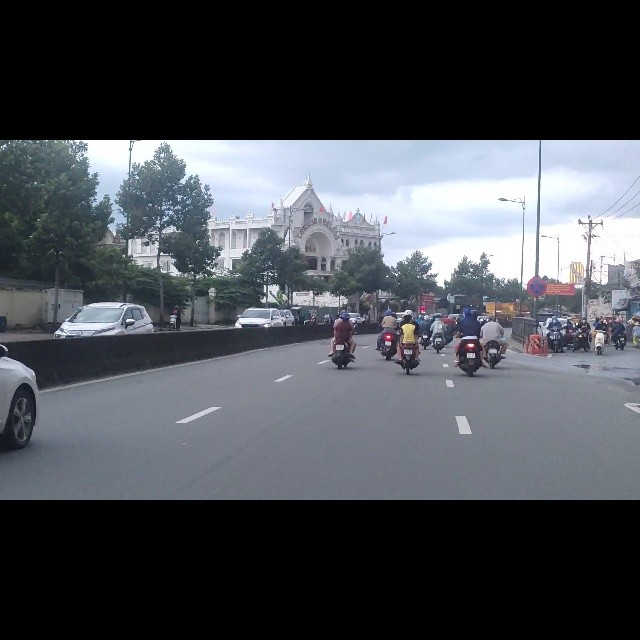bien_cam: (527, 243, 546, 277)
